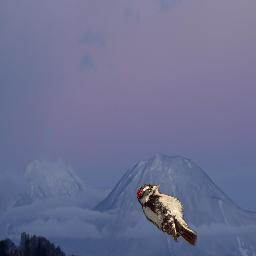Woodpecker: (136, 183, 197, 246)
